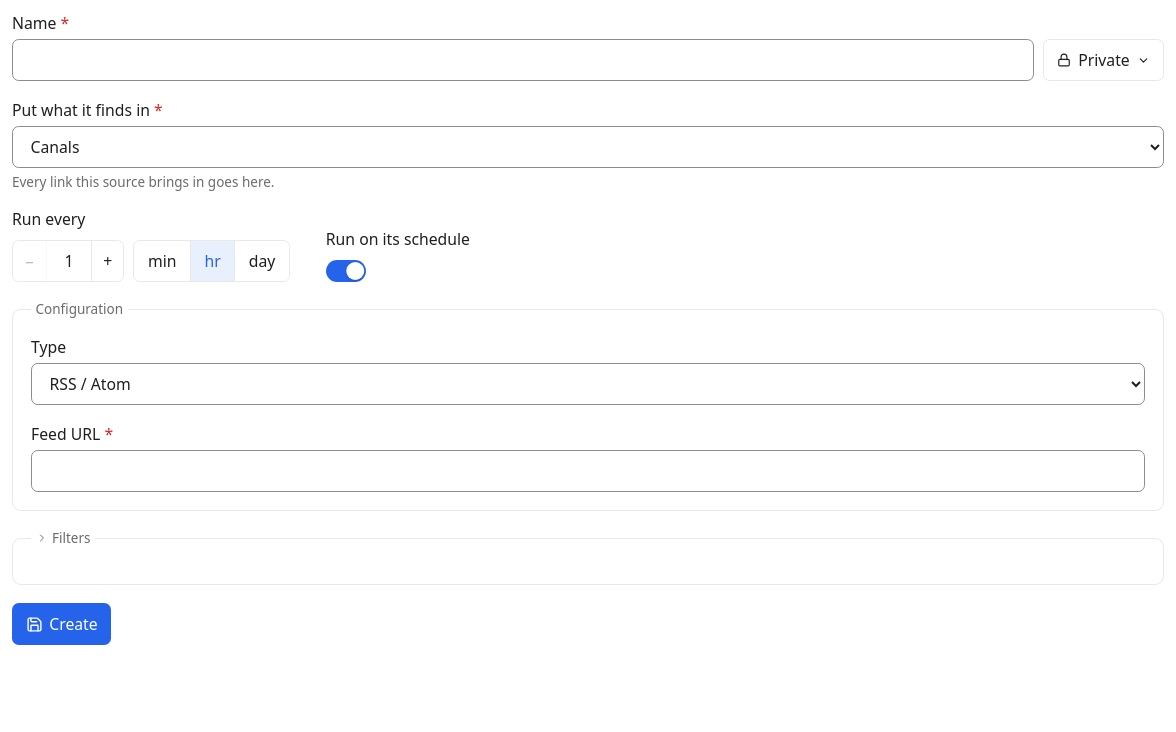
it: SourceForm — creating › names the quota when that is what stopped it
The image size is (1176, 732).
Type "Another" into the field labelled "Name" at (523, 60), box [12,39,1034,81]
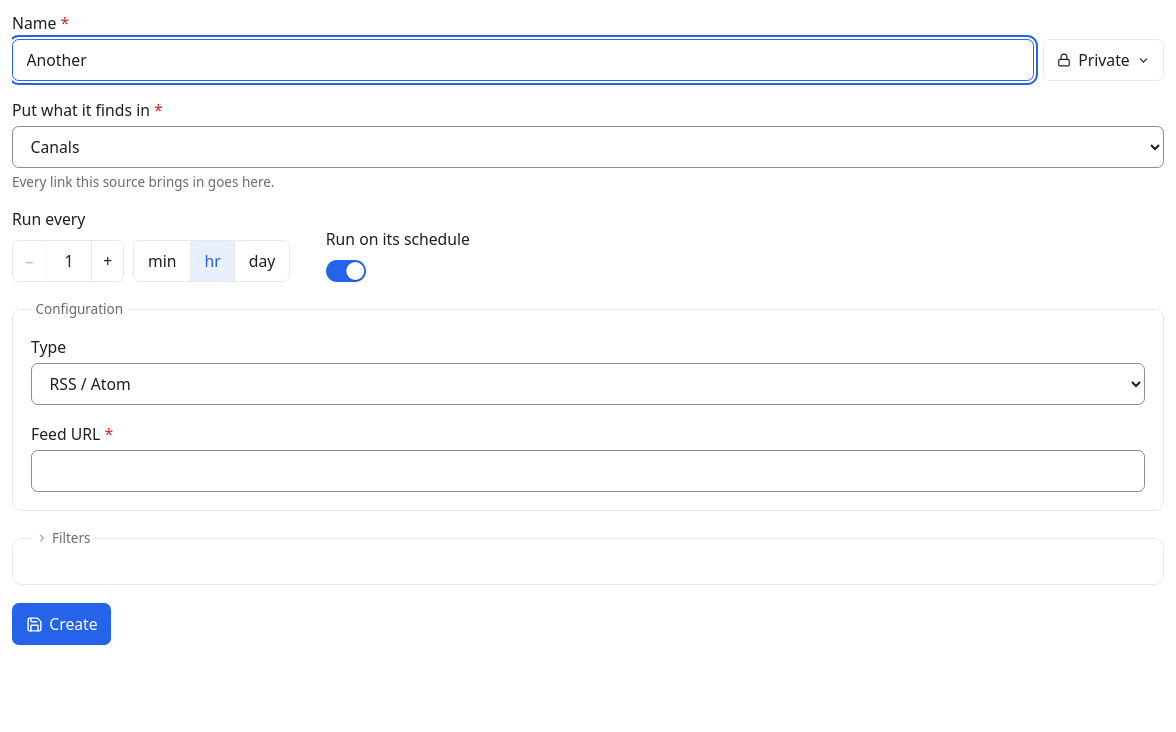
Type "https://example.com/feed.xml" into the field labelled "Feed URL *" at (588, 472), box [31,450,1145,492]
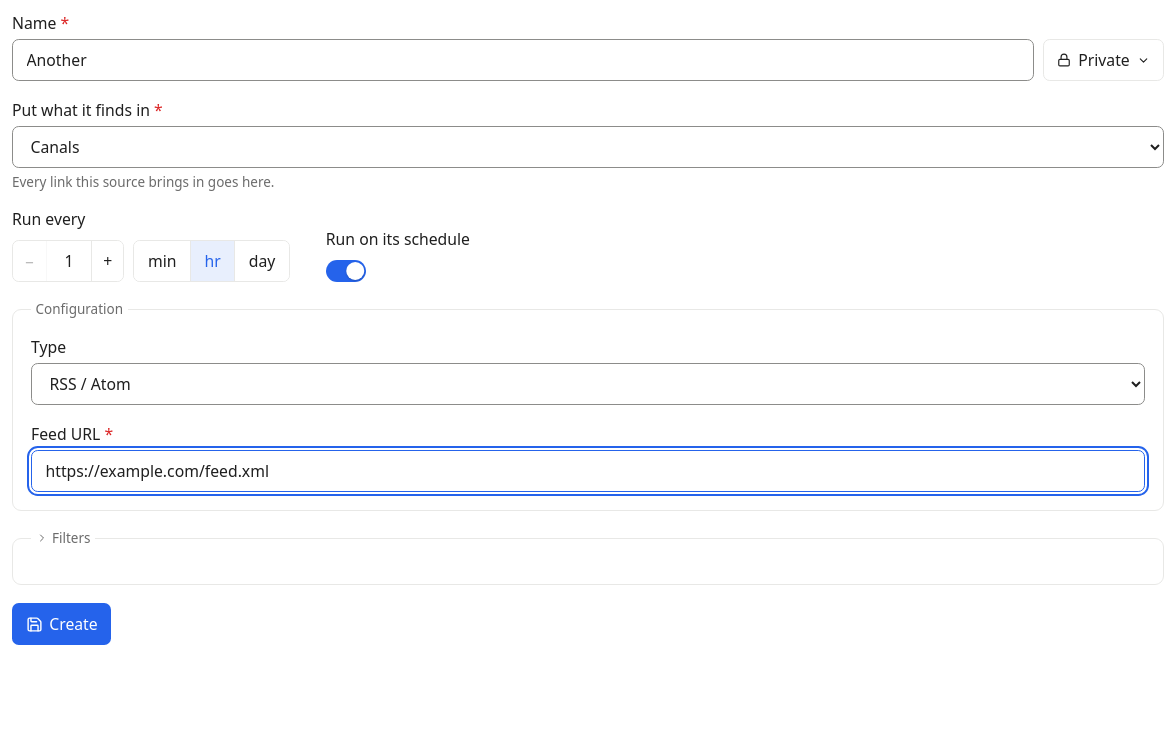
Click the button "Create" at (62, 624), box [12,603,111,645]
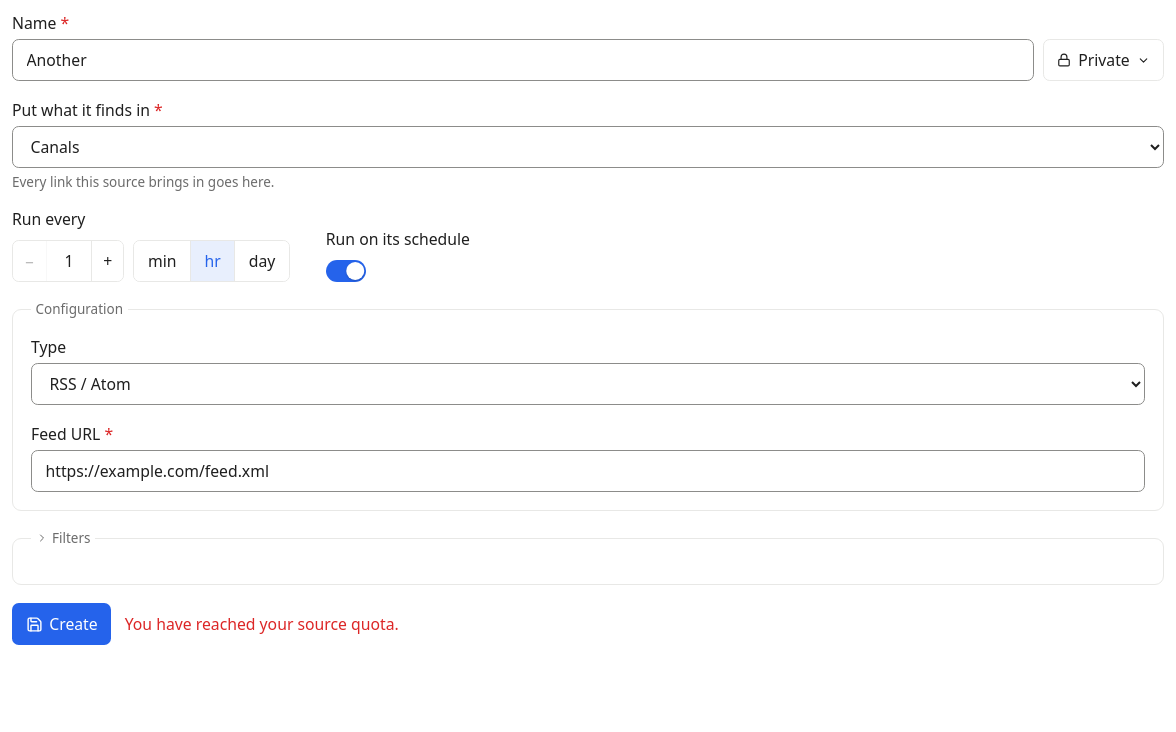
Result: the message reads "You have reached your source quota." at [125,613,399,635]
